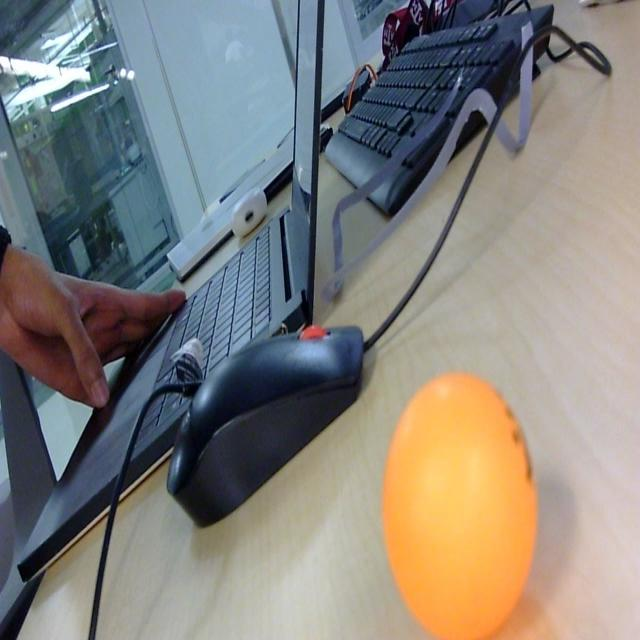ball: (382, 372, 540, 640)
